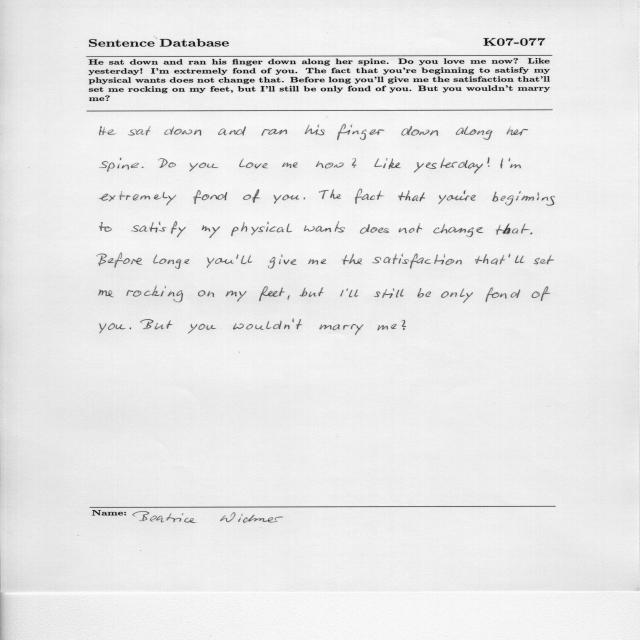word: (372, 254, 462, 269), (414, 158, 483, 174), (100, 191, 176, 205), (127, 286, 183, 303), (492, 191, 555, 206), (231, 222, 292, 237), (131, 222, 186, 238), (233, 319, 302, 330), (338, 124, 385, 140), (98, 253, 143, 268), (433, 224, 484, 237), (100, 157, 139, 172), (153, 254, 190, 269), (486, 287, 521, 302), (456, 126, 492, 140), (320, 324, 364, 335), (441, 288, 473, 303), (194, 190, 228, 204), (304, 222, 345, 233), (355, 189, 384, 204), (268, 254, 297, 269), (439, 190, 470, 204), (496, 223, 530, 235), (259, 286, 285, 301), (401, 126, 438, 136), (165, 127, 202, 136), (475, 254, 505, 265), (140, 319, 173, 329), (206, 257, 234, 268), (374, 288, 404, 298), (374, 158, 401, 169), (398, 191, 425, 202), (239, 159, 268, 169), (360, 224, 389, 234), (532, 286, 551, 301), (188, 324, 216, 334), (99, 323, 126, 333), (218, 127, 246, 136), (299, 287, 324, 297), (399, 223, 423, 233), (243, 189, 260, 203), (274, 195, 300, 204), (202, 225, 220, 238), (190, 163, 219, 171), (226, 291, 247, 302), (128, 126, 151, 136), (319, 189, 341, 199), (342, 254, 362, 265), (316, 161, 344, 168), (305, 125, 324, 135), (534, 256, 555, 265), (158, 158, 176, 168), (262, 129, 287, 136), (236, 255, 252, 265), (100, 126, 117, 135), (507, 129, 528, 136), (509, 254, 525, 263), (509, 158, 521, 169), (99, 222, 112, 232), (418, 288, 431, 298), (465, 190, 476, 201), (378, 324, 397, 330), (198, 290, 214, 297), (309, 259, 327, 265), (347, 288, 359, 297), (99, 290, 114, 297), (282, 162, 298, 168), (352, 158, 356, 168), (402, 320, 406, 330), (501, 158, 504, 169), (487, 157, 490, 167), (340, 290, 344, 296), (287, 295, 290, 300), (531, 233, 533, 235), (129, 327, 131, 329), (142, 167, 144, 168), (304, 197, 305, 199)
